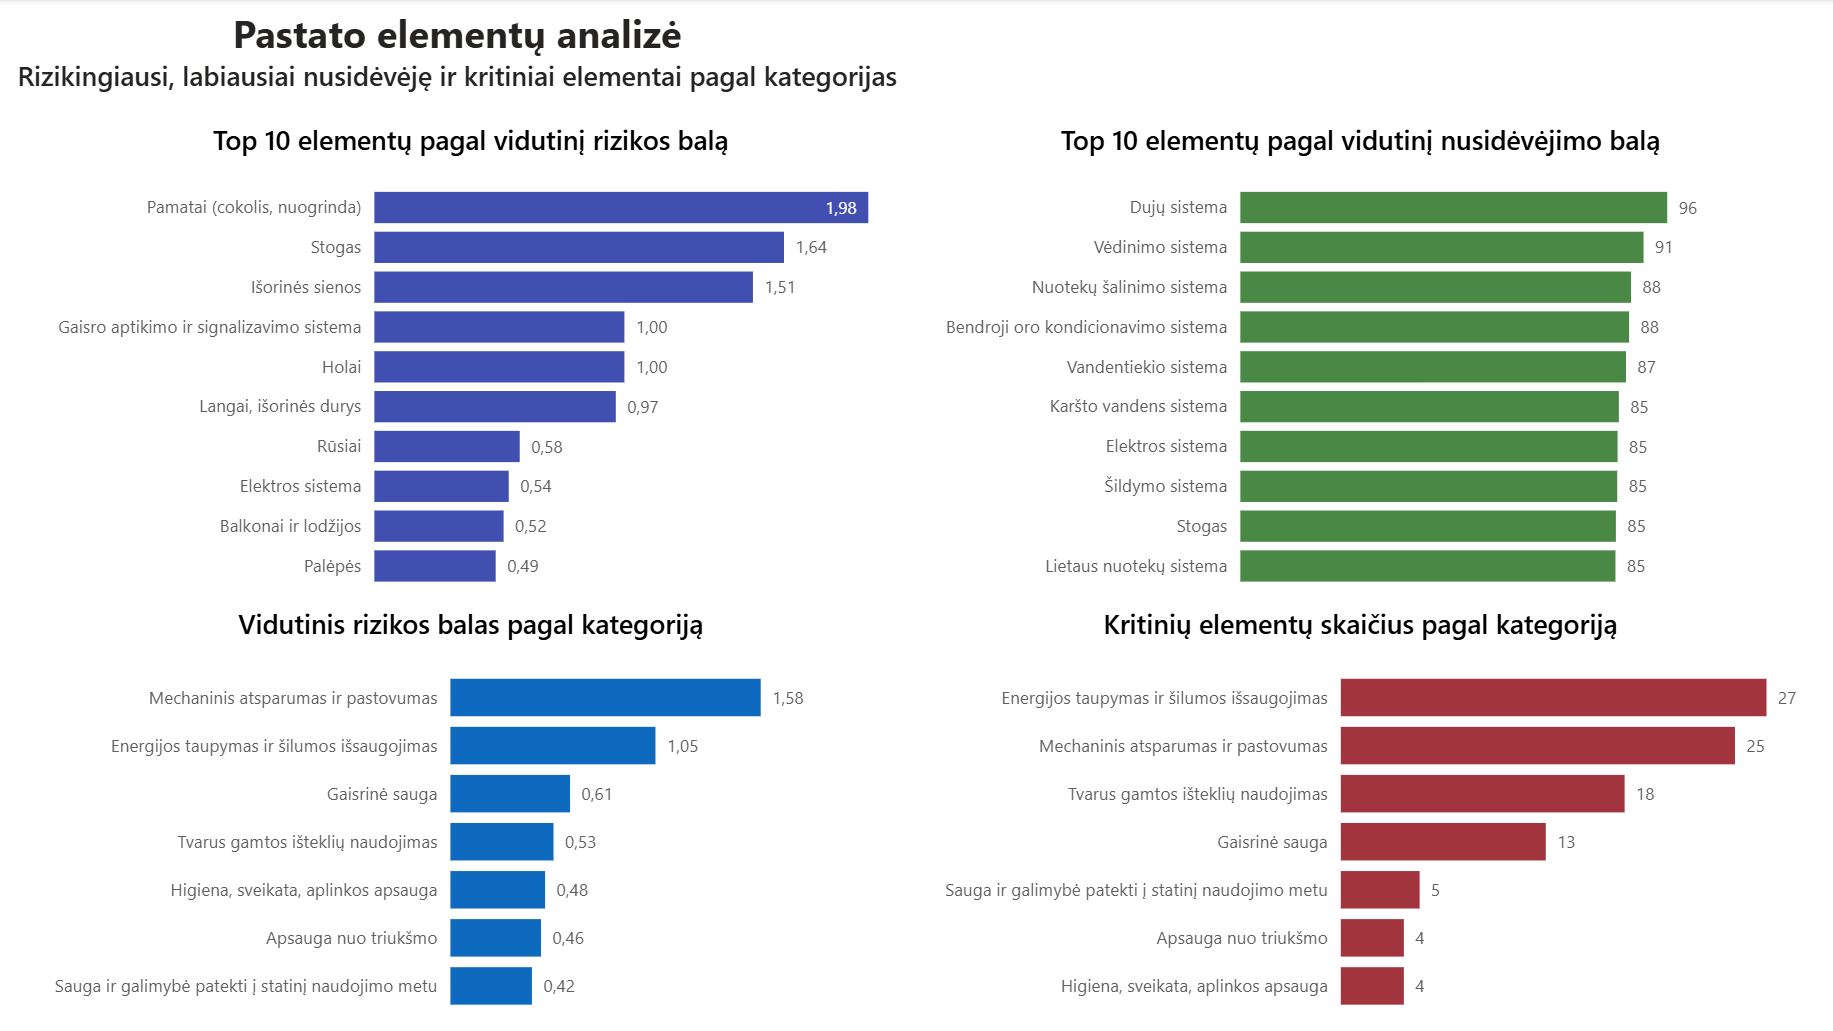

The dashboard page shown, as its layout file describes it:
{"tool":"powerbi","page":{"name":"Pastato elementų analizė","canvas":[1280,720],"ordinal":2},"visuals":[{"type":"clusteredBarChart","title":"Top 10 elementų pagal vidutinį rizikos balą","fields":{"Y":["Avg(ElementuRizika.rizikos_balas)"],"Category":["ElementuRizika.elemento_pavadinimas"]},"box":[19.3,85,620.3,337.2],"z":0},{"type":"clusteredBarChart","title":"Top 10 elementų pagal vidutinį nusidėvėjimo balą","fields":{"Category":["ElementuNusidevejimas.elemento_pavadinimas"],"Y":["ElementuNusidevejimas.VidutinisElementoNusidevejimas"]},"box":[639.6,85,619.3,337.2],"z":1000},{"type":"clusteredBarChart","title":"Vidutinis rizikos balas pagal kategoriją","fields":{"Category":["ElementuRizika.kategorijos_pavadinimas"],"Y":["ElementuRizika.M_VidutinisElementoRizikosBalas"]},"box":[19.3,422.2,620.3,297.6],"z":2000},{"type":"clusteredBarChart","title":"Kritinių elementų skaičius pagal kategoriją","fields":{"Category":["ElementuRizika.kategorijos_pavadinimas"],"Y":["ElementuRizika.M_KritiniuAtvejuSkaicius"]},"box":[639.6,422.2,619.3,297.6],"z":3000},{"type":"textbox","box":[0,0,640,85],"z":4000}]}

Visuals, with their boxes in screenshot pixels (x1, y1, x2, y2), scaled from the page's 1280x720 canvas onto the 1833x1031 screenshot:
"Top 10 elementų pagal vidutinį rizikos balą" clusteredBarChart: select_region(28, 122, 916, 605)
"Top 10 elementų pagal vidutinį nusidėvėjimo balą" clusteredBarChart: select_region(916, 122, 1803, 605)
"Vidutinis rizikos balas pagal kategoriją" clusteredBarChart: select_region(28, 605, 916, 1030)
"Kritinių elementų skaičius pagal kategoriją" clusteredBarChart: select_region(916, 605, 1803, 1030)
textbox: select_region(0, 0, 916, 122)
